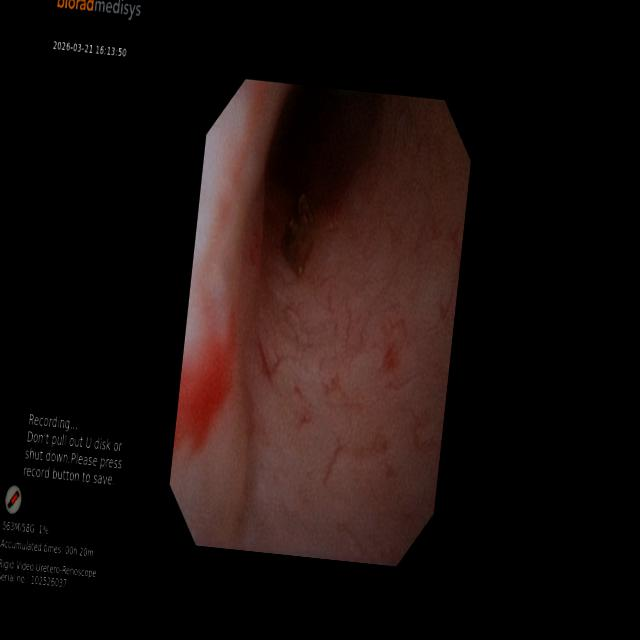stone-new: (281, 194, 313, 275)
